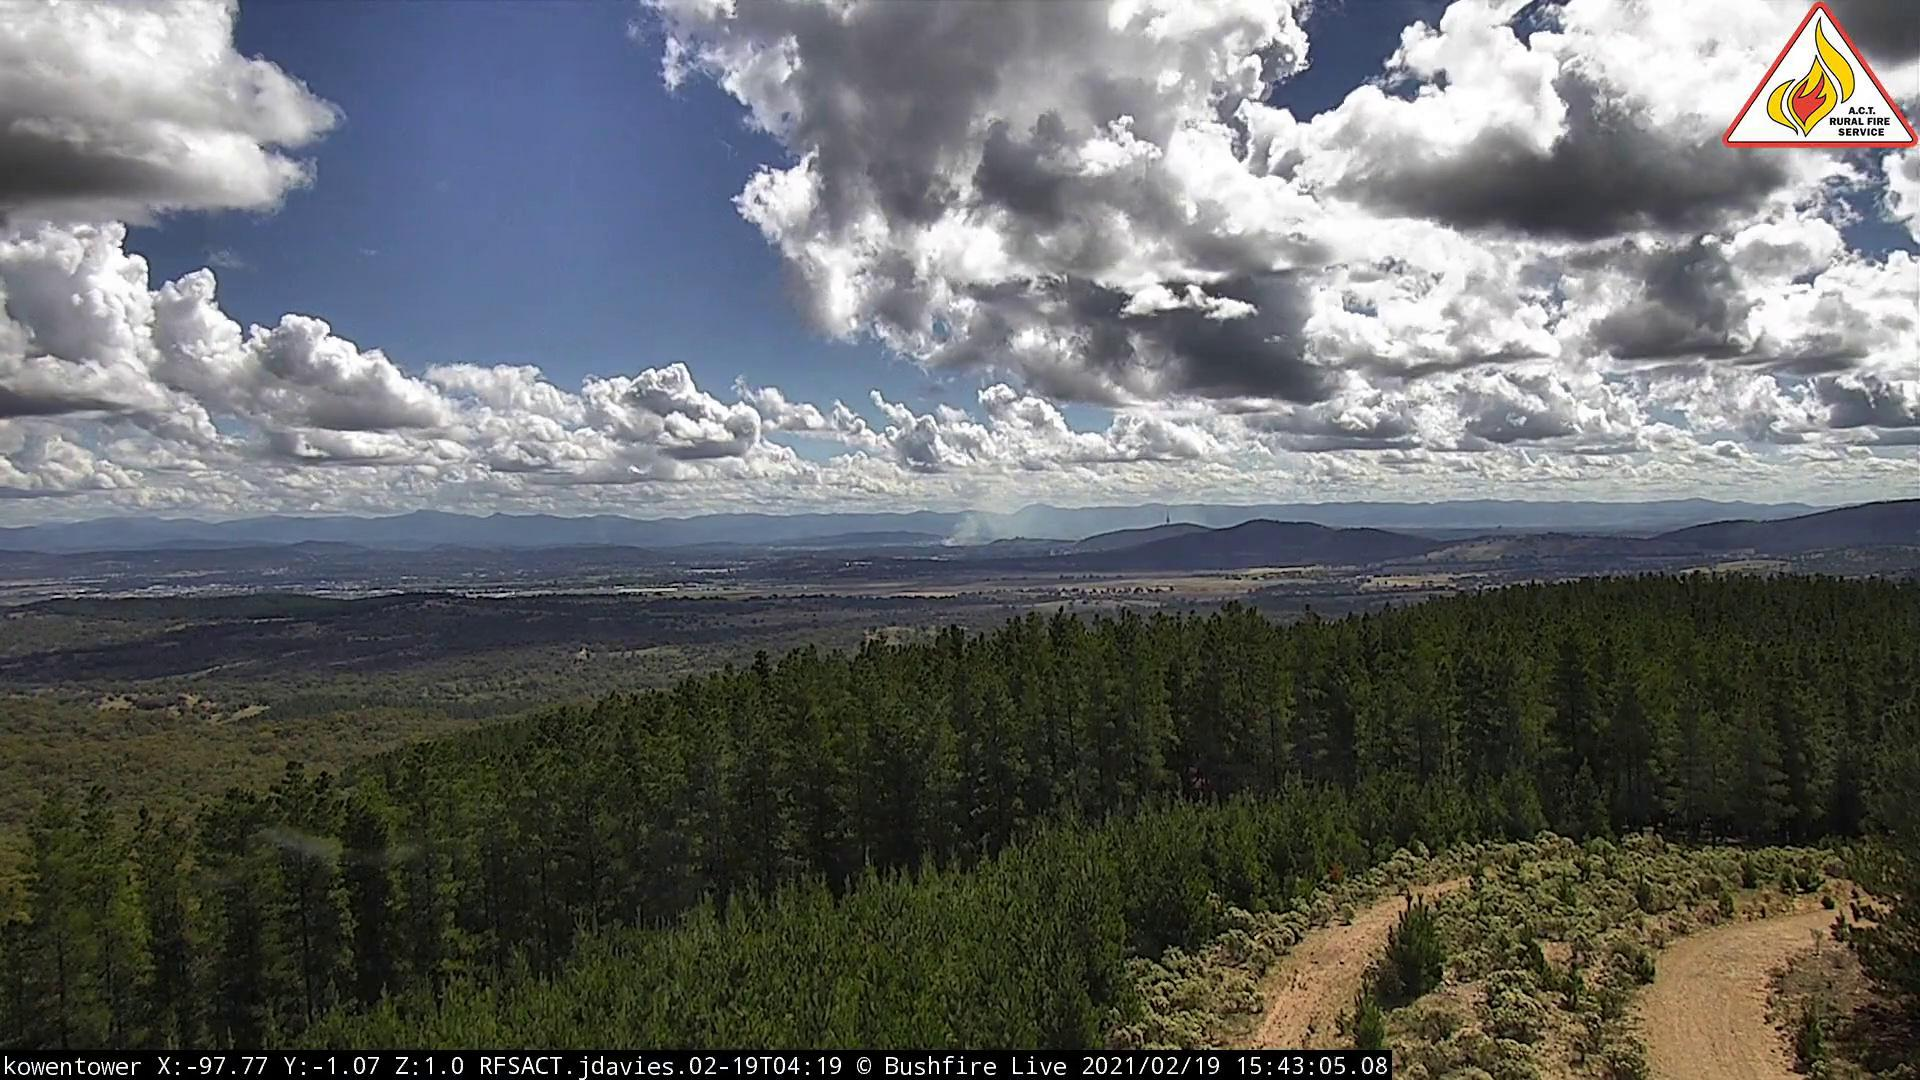instance_salient_object: (936, 504, 1015, 553), (589, 531, 620, 553)
